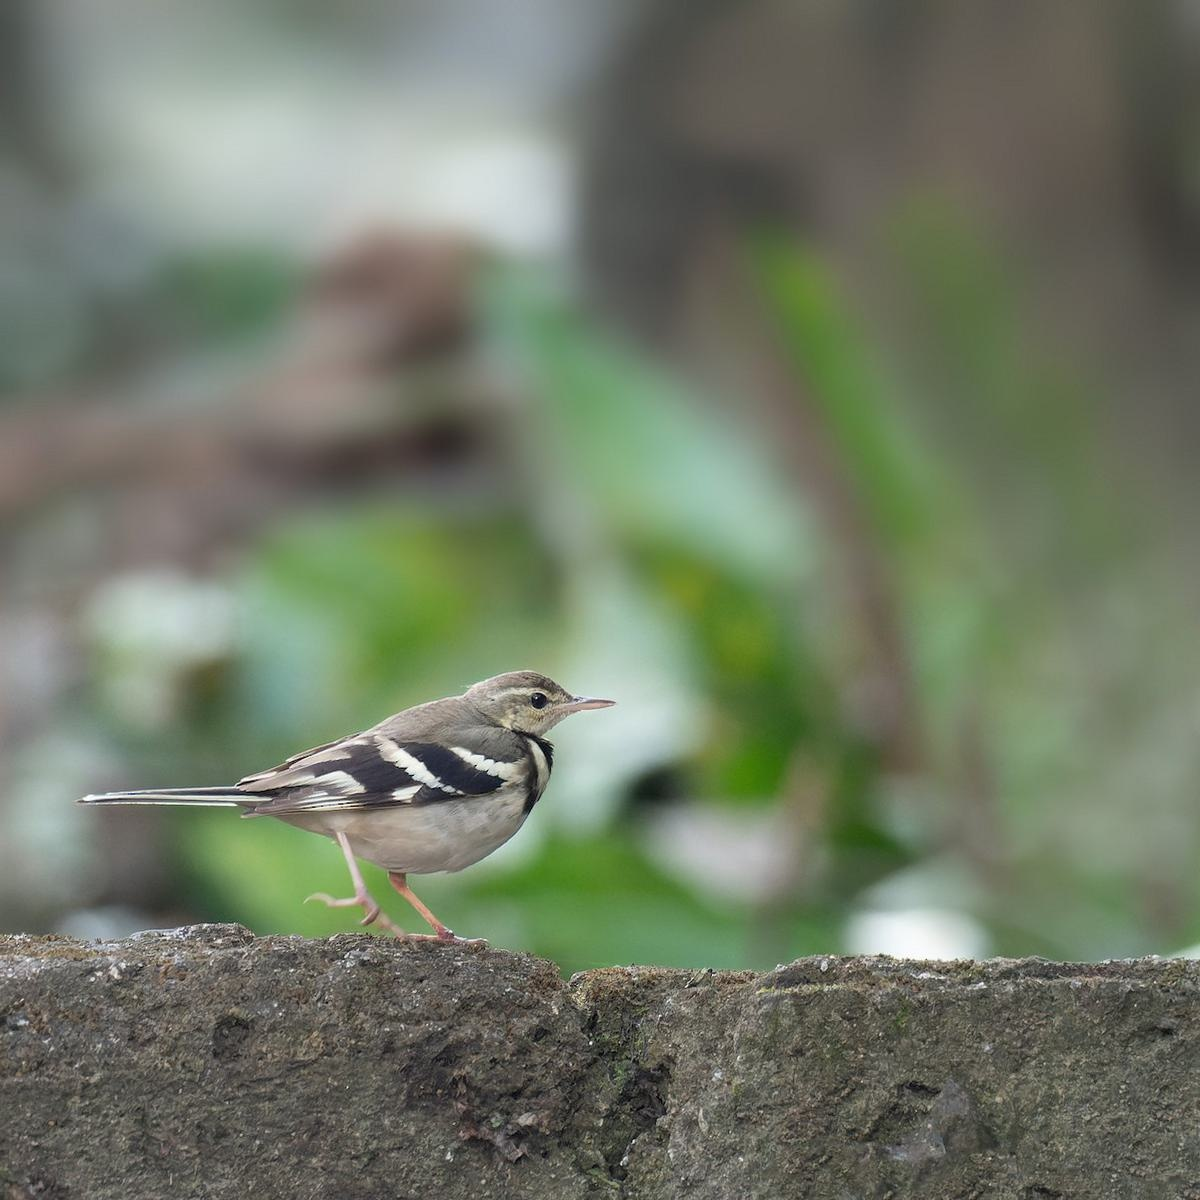wagtail: (105, 662, 648, 899)
